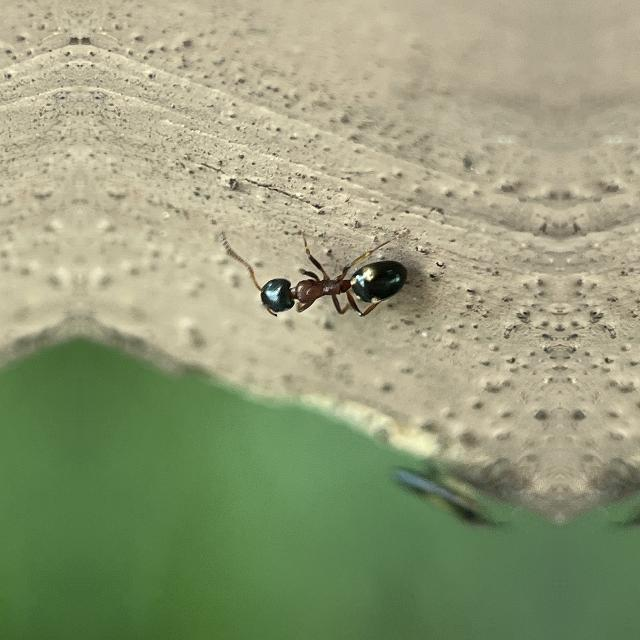Dolichoderus: (228, 217, 422, 341)
